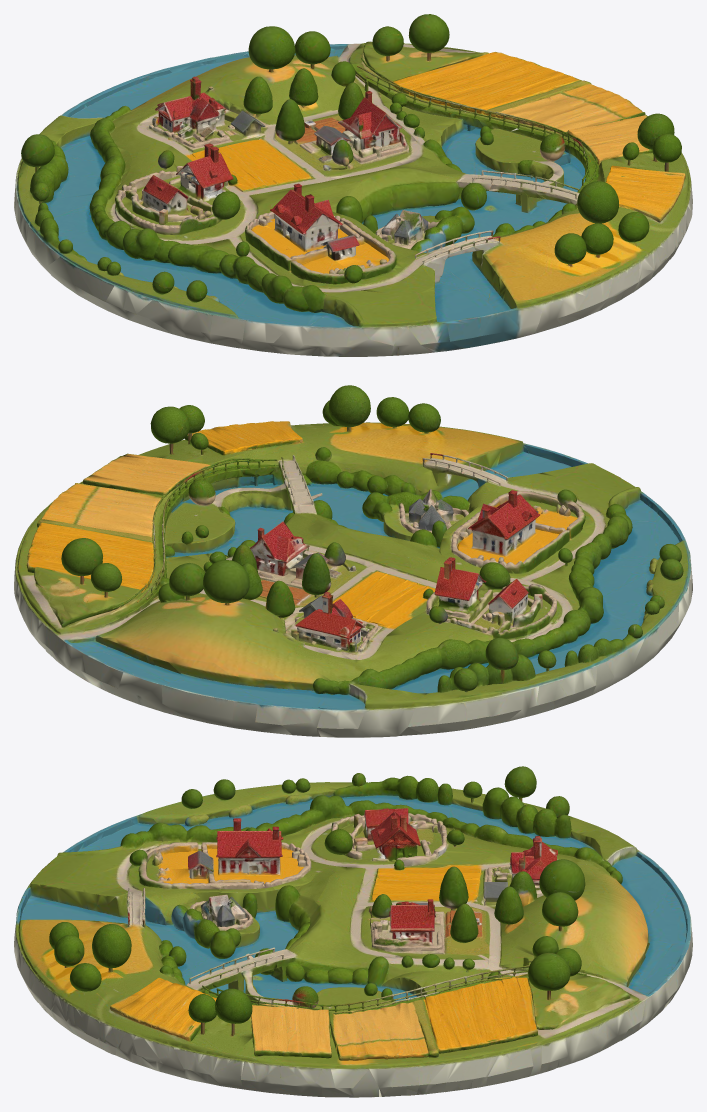
The model's file is countryside.glb.
3 views of the same model, one above another, from view 1: azimuth 30°, elevation 25°; view 2: azimuth 150°, elevation 25°; view 3: azimuth 270°, elevation 25° (orthographic).
Size of the model in its own units: 1.9 by 0.3284 by 1.9.
1 material, 1 textured.
